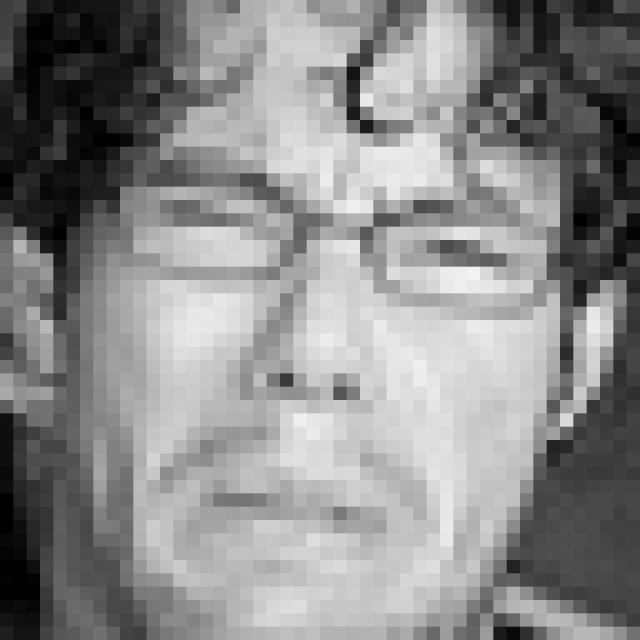disgust: (125, 138, 540, 590)
